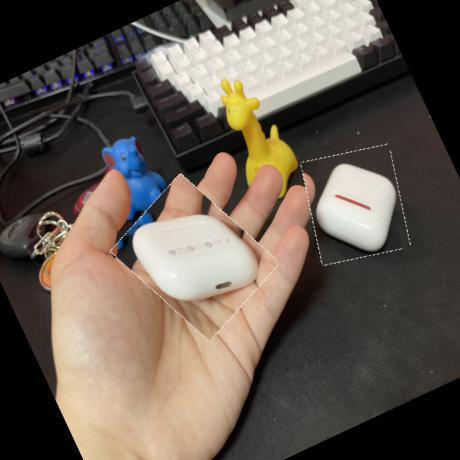airpod2: (286, 131, 426, 277)
airpod3: (106, 162, 284, 351)
